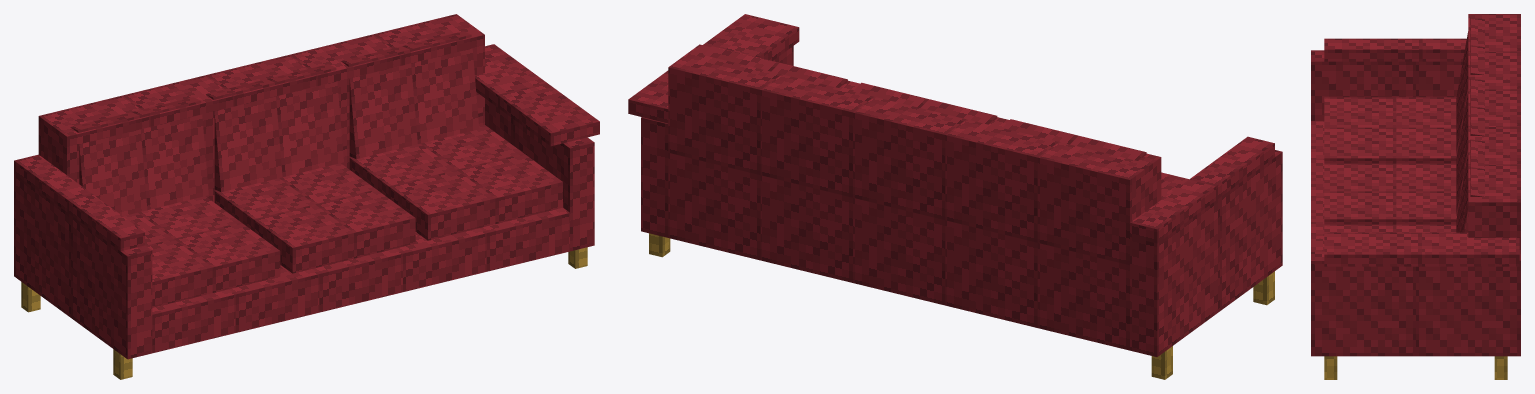
The model's file is loungeCouchWideMansion_0.glb.
3 renders of one model, left to right at view 1: azimuth 30°, elevation 25°; view 2: azimuth 150°, elevation 25°; view 3: azimuth 270°, elevation 25°, orthographic. The views are drawn at different scales.
Visible parts, largest first — view 1: loungeCouchWideMansion_0; view 2: loungeCouchWideMansion_0; view 3: loungeCouchWideMansion_0.
Boxes of the visible parts, box(x1,y1,x2,y2) form: loungeCouchWideMansion_0: box(14, 14, 599, 379); loungeCouchWideMansion_0: box(628, 14, 1282, 379); loungeCouchWideMansion_0: box(1311, 14, 1520, 379).
Size of the model in its own units: 2.44 by 0.886 by 1.
Materials: 1 (1 with a texture image).
